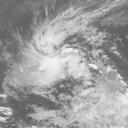cyclone: (34, 40, 99, 99)
